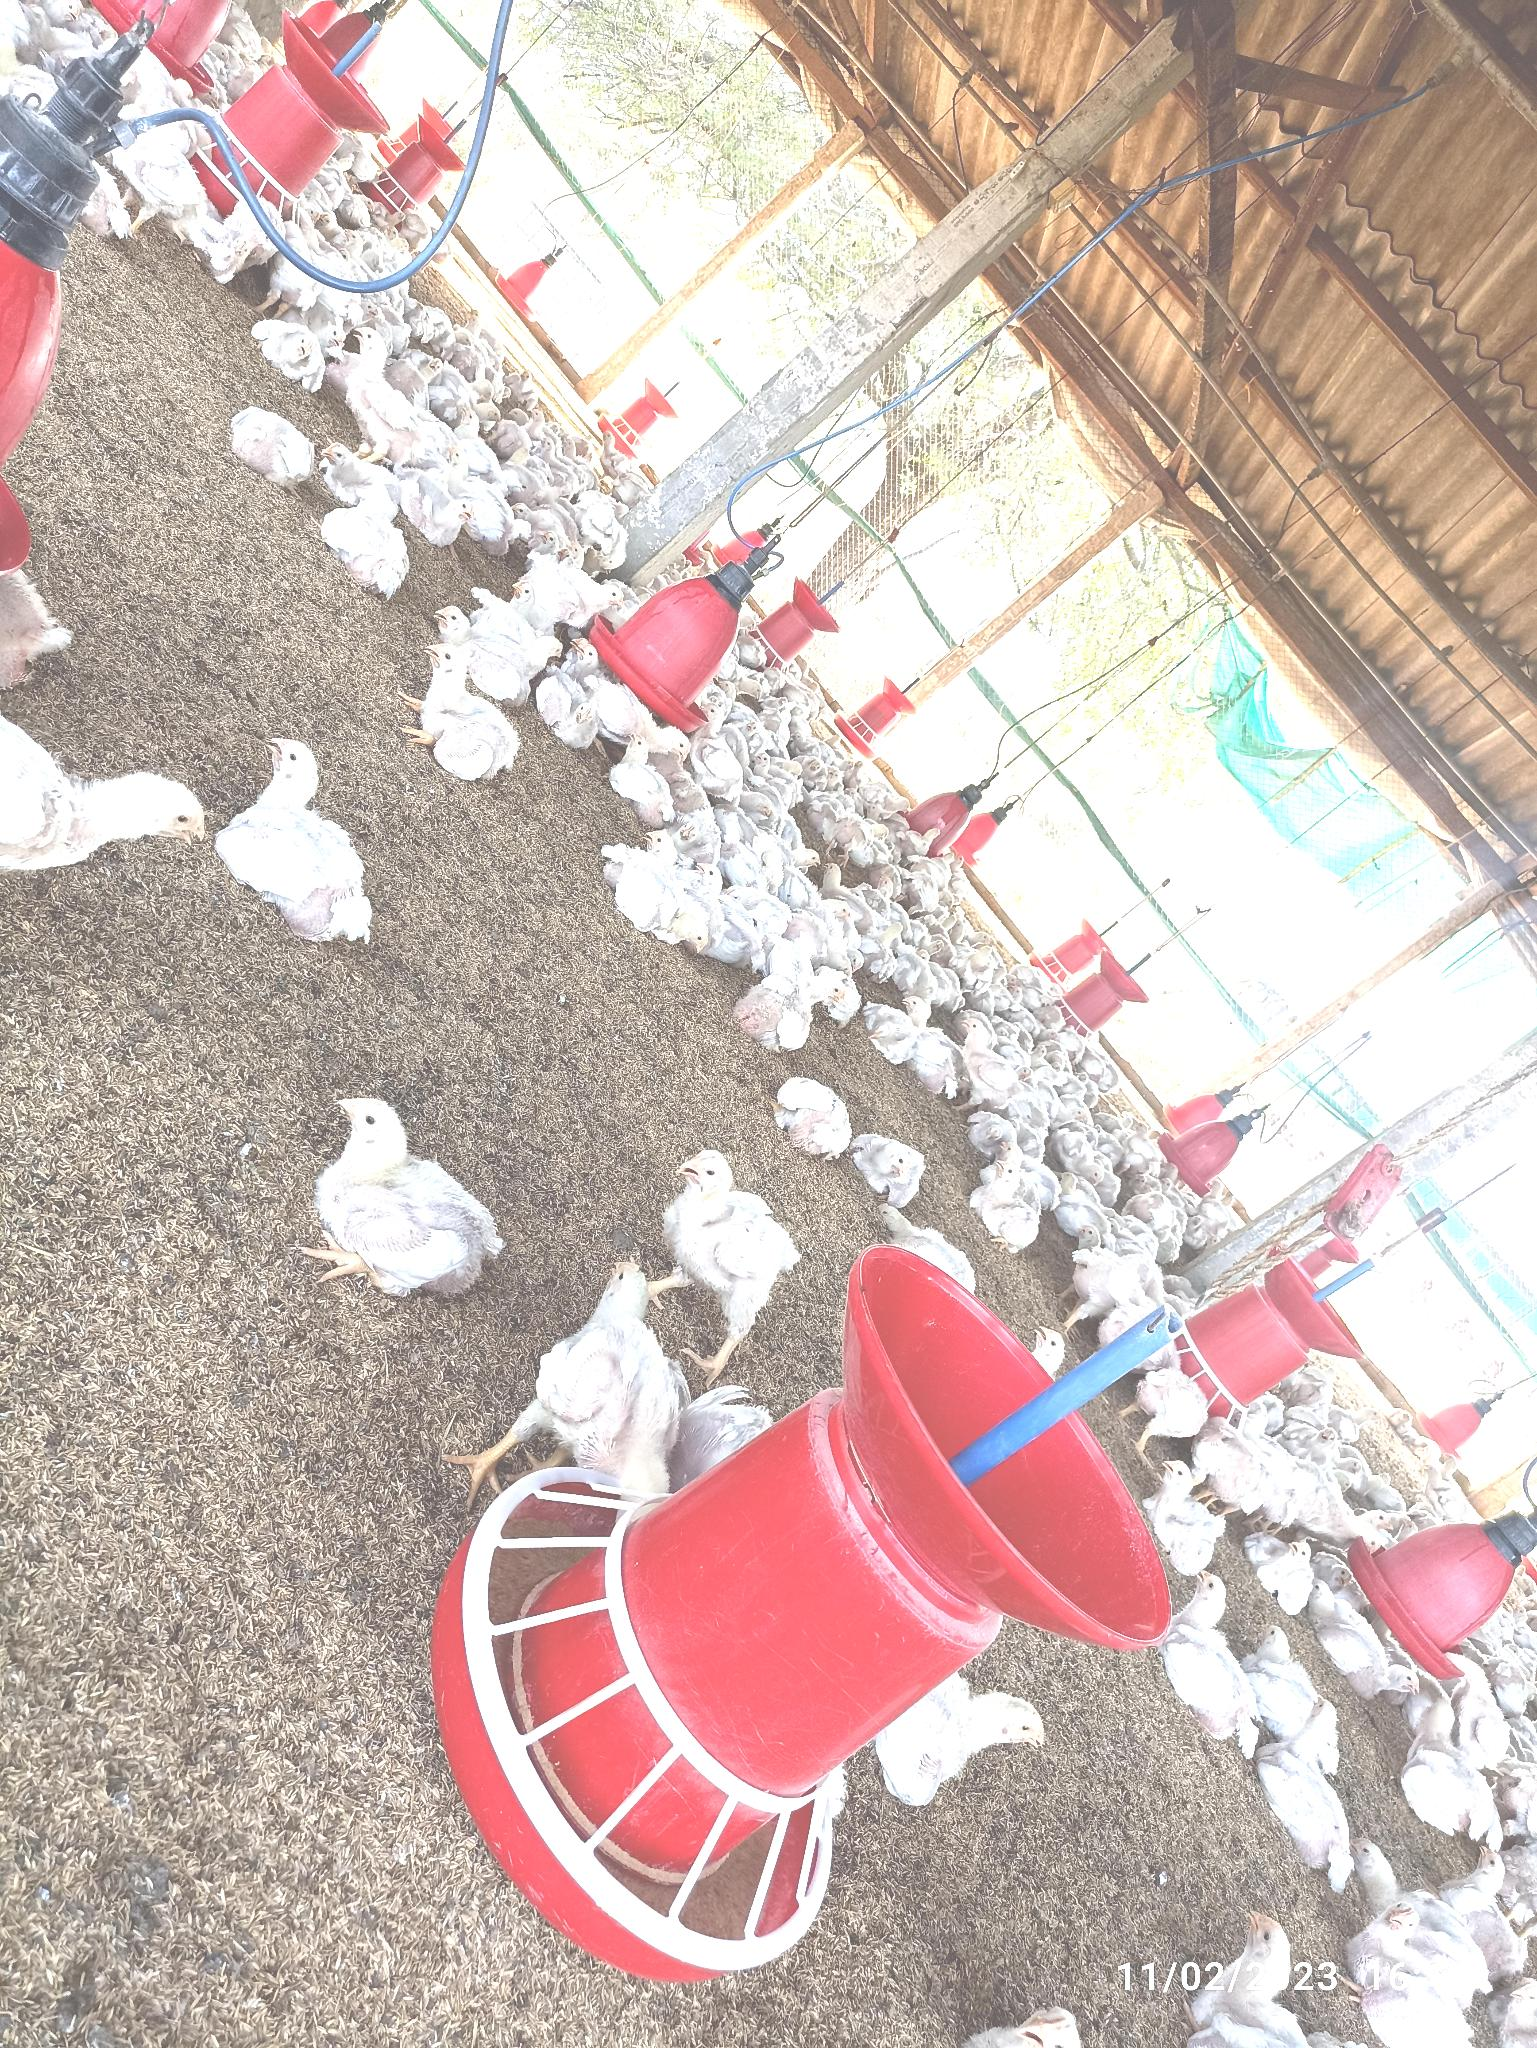Pollos: (316, 1089, 497, 1293), (220, 729, 384, 944), (10, 704, 203, 863), (544, 1257, 676, 1482), (659, 1147, 789, 1307), (885, 1670, 1040, 1799), (1162, 1565, 1258, 1741), (350, 323, 457, 458), (418, 642, 518, 781), (601, 842, 710, 959), (1264, 1695, 1337, 1869), (1421, 1695, 1498, 1848), (1326, 1596, 1419, 1698), (738, 972, 849, 1046), (325, 507, 412, 594), (1150, 1461, 1224, 1561), (234, 399, 312, 486), (778, 1072, 849, 1159), (977, 1160, 1043, 1251), (609, 734, 680, 817), (408, 470, 480, 549), (959, 1017, 1019, 1106), (253, 315, 329, 382), (1261, 1525, 1314, 1614), (854, 1147, 935, 1194), (882, 996, 944, 1052)
